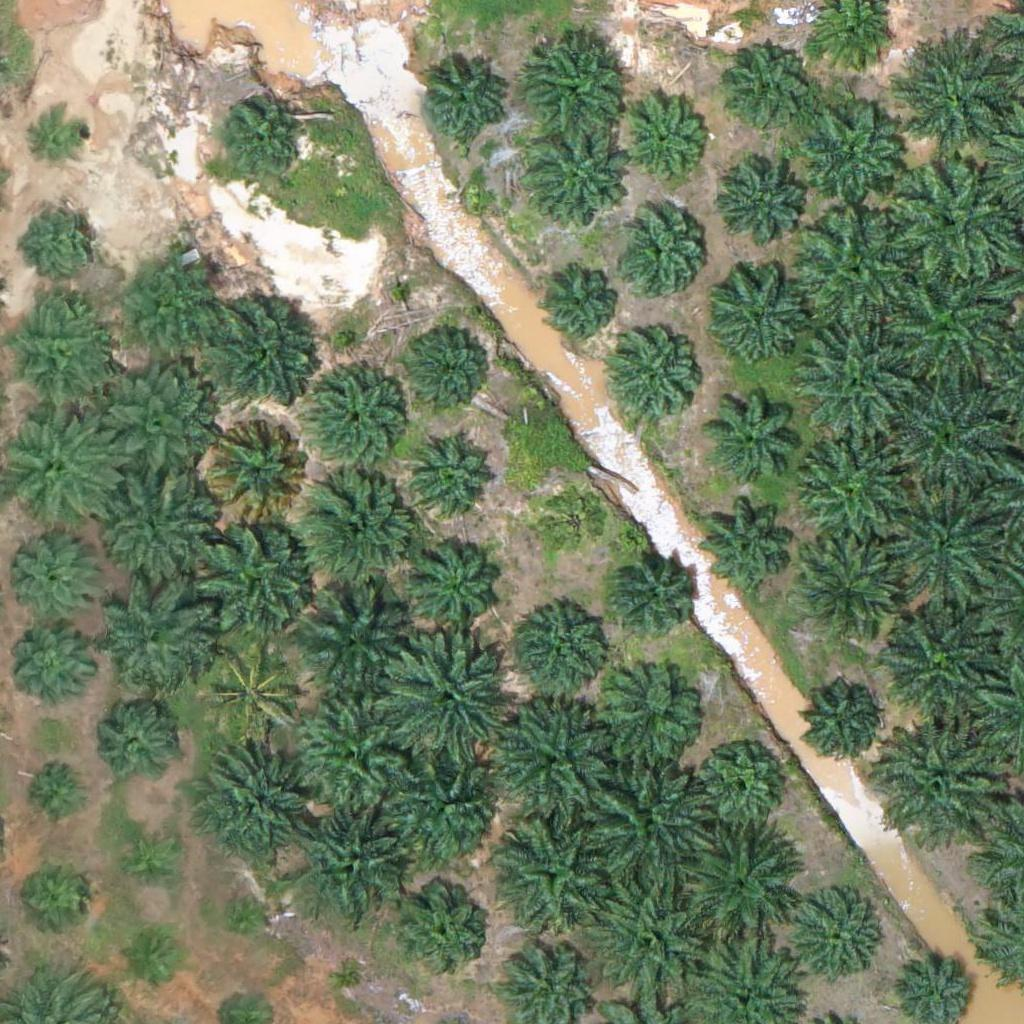Kelapa_Sawit: (898, 31, 1023, 157), (893, 156, 1018, 282), (886, 259, 1011, 385), (887, 372, 1012, 498), (883, 480, 1008, 606), (872, 718, 997, 844), (795, 205, 920, 331), (199, 285, 324, 411), (193, 519, 318, 645), (96, 466, 221, 592), (93, 572, 218, 698), (295, 461, 420, 587), (291, 692, 416, 818), (198, 739, 323, 865), (379, 635, 504, 761), (388, 754, 513, 880), (484, 699, 609, 825), (486, 814, 611, 940), (585, 757, 710, 883), (586, 874, 711, 1000), (681, 814, 806, 940), (284, 798, 409, 924), (88, 365, 213, 490), (294, 577, 419, 702), (194, 633, 307, 747), (877, 602, 990, 715), (201, 414, 314, 527), (591, 667, 704, 780), (113, 248, 225, 362), (302, 364, 414, 478), (3, 300, 115, 413), (793, 529, 905, 642), (797, 422, 909, 535), (797, 321, 909, 434), (10, 525, 110, 626), (805, 103, 905, 204), (701, 384, 801, 485), (700, 491, 800, 592), (528, 127, 628, 228), (524, 34, 624, 135), (403, 529, 503, 630), (506, 604, 606, 705), (392, 881, 492, 982), (706, 265, 806, 365), (783, 883, 883, 983), (696, 742, 784, 830), (8, 619, 96, 707), (727, 44, 815, 132), (620, 99, 708, 187), (617, 212, 705, 300), (609, 335, 697, 423), (419, 59, 507, 147), (608, 546, 695, 635), (218, 100, 305, 188), (537, 259, 624, 347), (721, 163, 808, 251), (88, 699, 175, 787), (411, 429, 498, 517), (406, 324, 493, 412), (26, 199, 101, 275), (537, 482, 612, 558), (15, 861, 90, 936), (803, 685, 878, 760), (118, 834, 181, 897), (31, 108, 93, 171), (25, 757, 87, 820), (123, 930, 186, 992), (217, 890, 267, 940), (331, 952, 368, 990)
